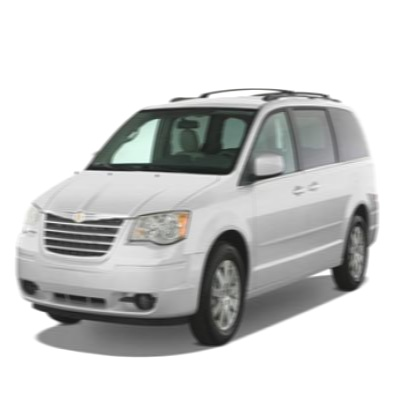Vehicle: (18, 89, 380, 348)
